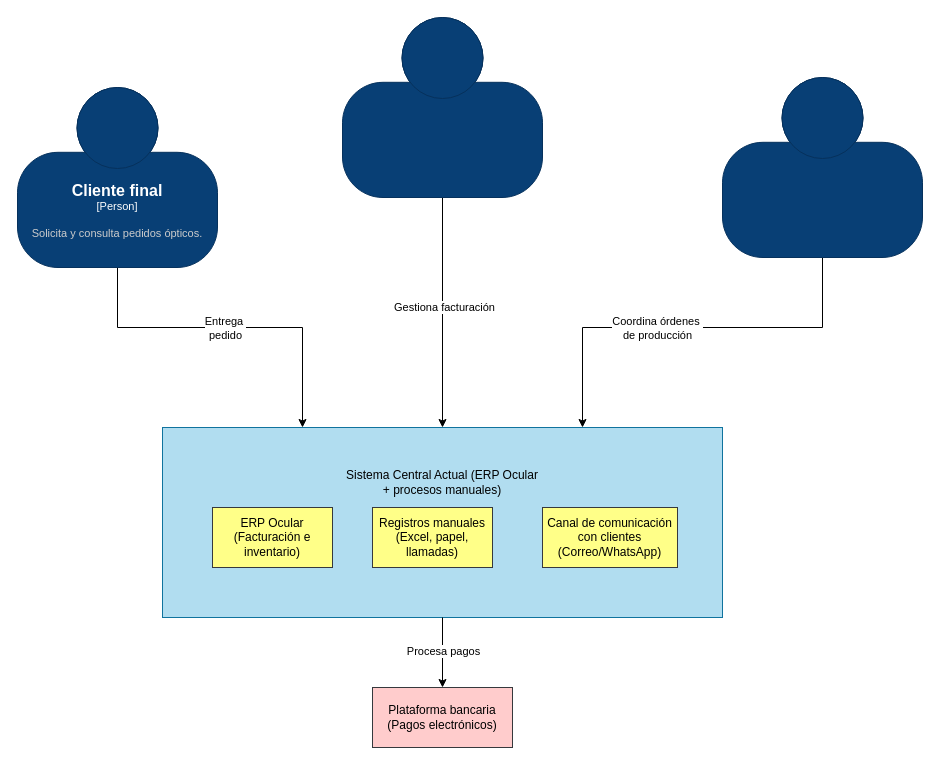
This 940x765 diagram has some shape labels left out. Here are the shapes that lost their labels. From the top down, the centre of each, then its label:
pixel 442 107: Jefe Administrativa [Person] Gestiona facturación y control.
pixel 822 167: Jefe de Producción [Person] Coordina el laboratorio óptico.
